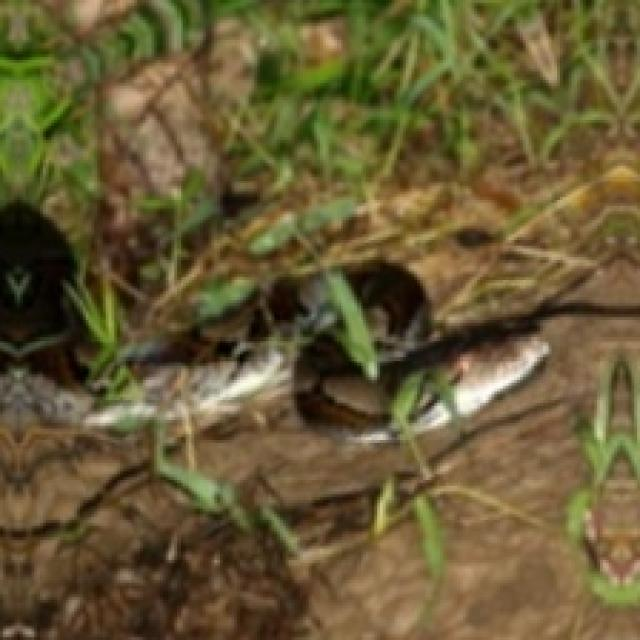reticulated python: (0, 202, 432, 444), (411, 331, 549, 432)
